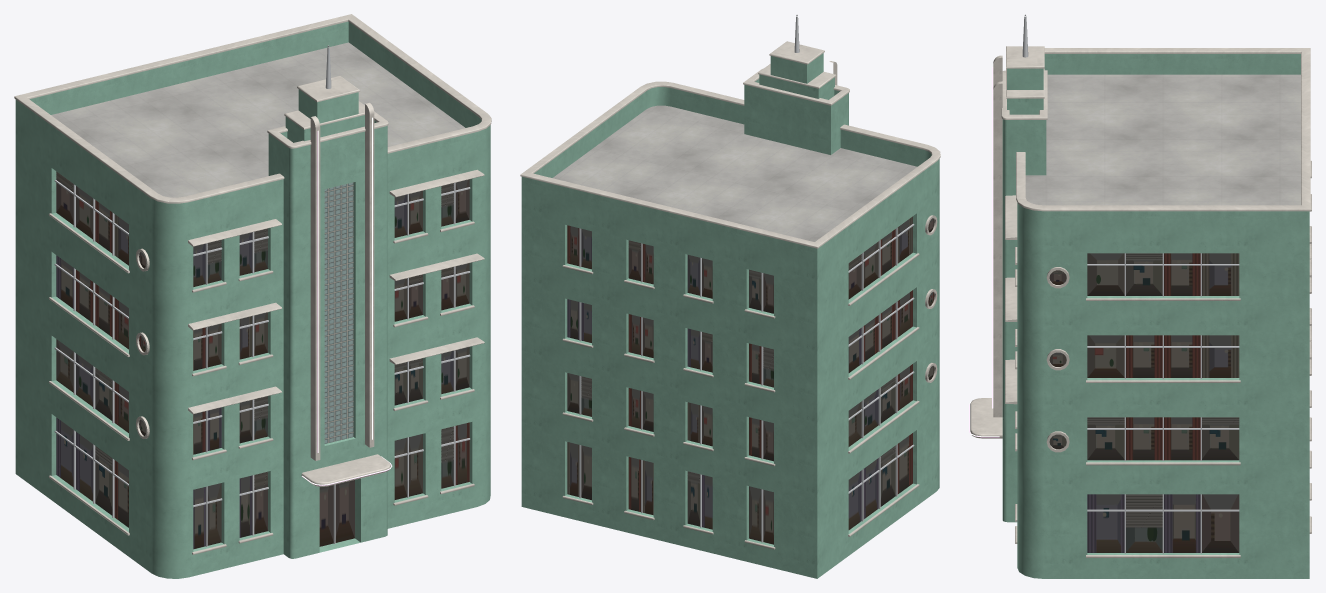
The picture shows the model from 3 angles, left to right: view 1: azimuth 30°, elevation 25°; view 2: azimuth 150°, elevation 25°; view 3: azimuth 270°, elevation 25°; orthographic projection. The views are drawn at different scales.
Visible parts, largest first — view 1: bg_3_mesh; view 2: bg_3_mesh; view 3: bg_3_mesh.
Part boxes in pixels (x1,y1,x2,y2): bg_3_mesh: (14,14,491,578); bg_3_mesh: (520,14,940,578); bg_3_mesh: (969,14,1311,578).
Bounding box in the file's own units: 13.18 × 18.3 × 11.73.
Materials: 6 (4 with a texture image).
